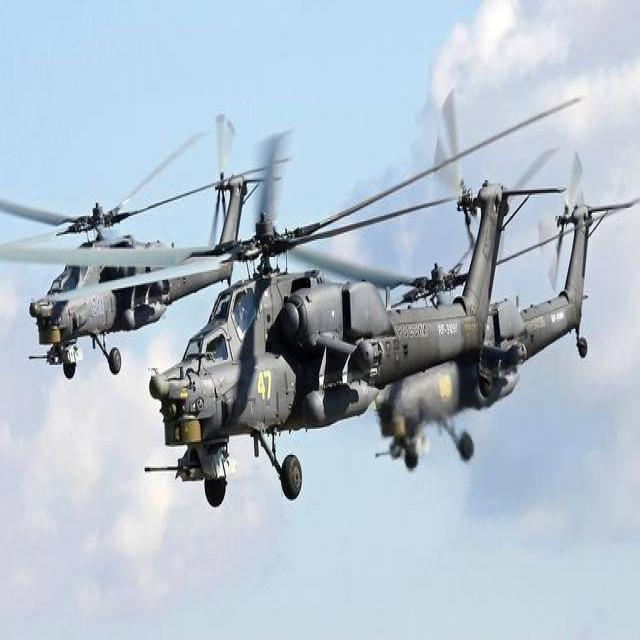MIL_HELO: (0, 92, 589, 534), (282, 147, 612, 477), (1, 100, 253, 376)
